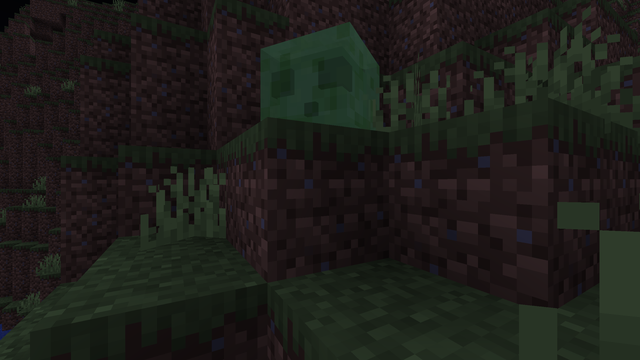slimes: (265, 14, 391, 127)
